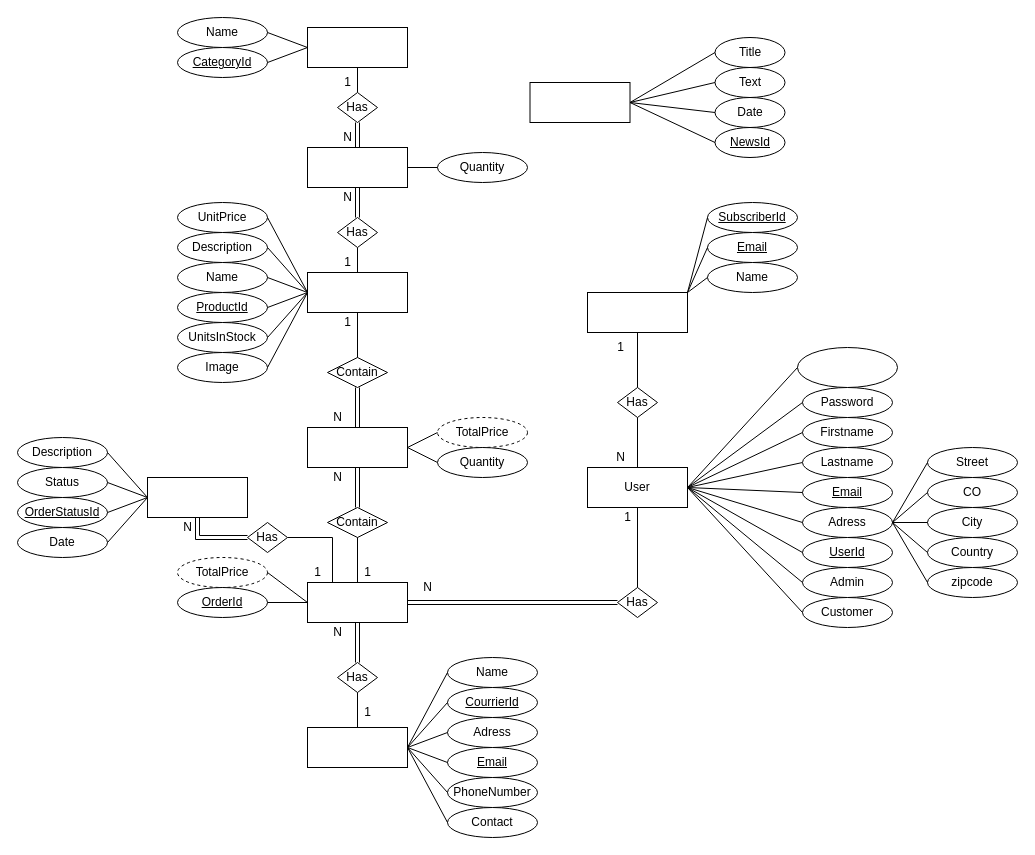
Image size: 1035x855. Some labels were removed from this diagram. The centre of each missing label's shape, as x and y in pixels:
Category: (357,47)
Courrier: (357,747)
Newsletter: (579,102)
Order: (357,602)
Orderdetails: (357,447)
OrderStatus: (197,497)
Product: (357,292)
ProductCategory Details: (357,167)
SubscriptionNews: (637,312)
TermsOfPurchase: (847,367)
